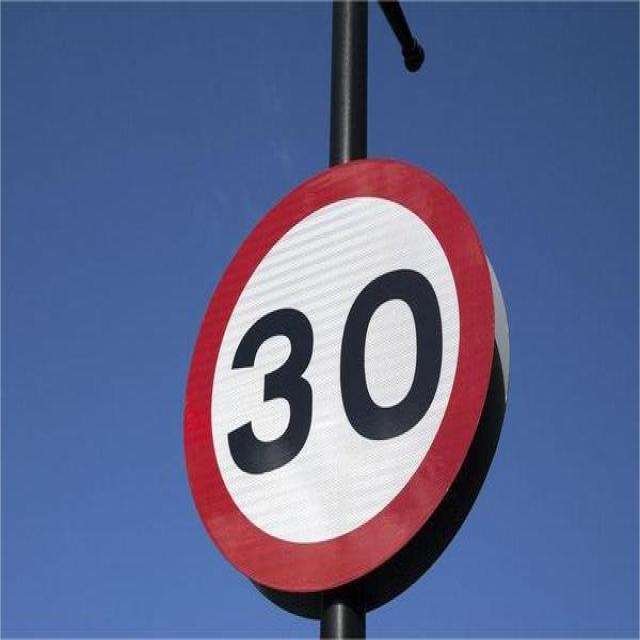speed limit 30: (183, 158, 498, 606)
